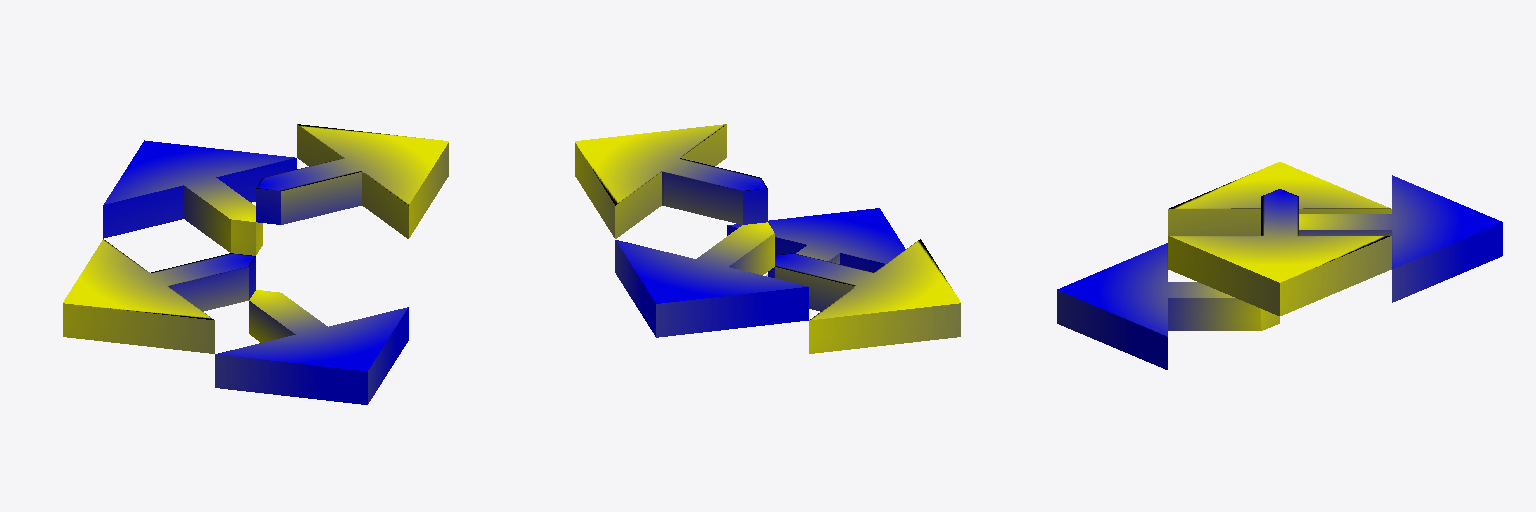
3 views of the same model, side by side, from view 1: azimuth 30°, elevation 25°; view 2: azimuth 150°, elevation 25°; view 3: azimuth 270°, elevation 25° (orthographic).
Visible parts, largest first — view 1: Logo_LogoMesh; view 2: Logo_LogoMesh; view 3: Logo_LogoMesh.
Part boxes in pixels (x1,y1,x2,y2): Logo_LogoMesh: (63, 124, 448, 404); Logo_LogoMesh: (575, 124, 960, 353); Logo_LogoMesh: (1057, 162, 1502, 369).
Size of the model in its own units: 12 by 4 by 12.
2 materials, 1 textured.